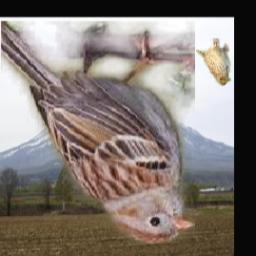Sparrow: (1, 22, 195, 245), (195, 38, 232, 86)
